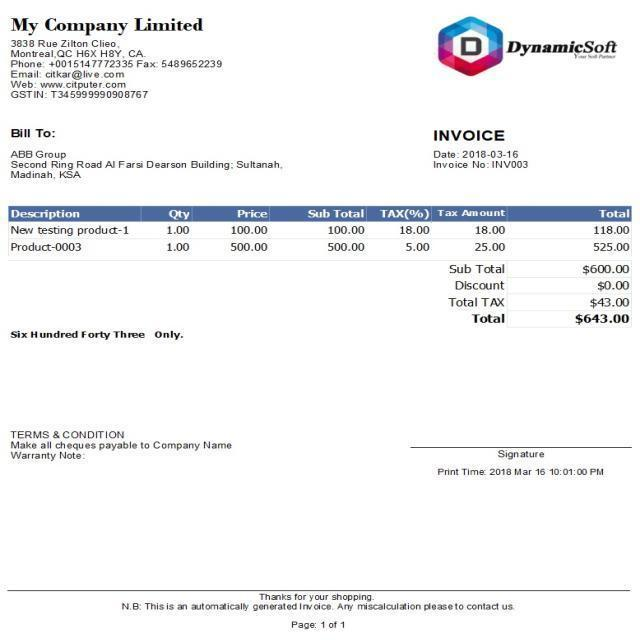paragraph: (5, 10, 233, 102), (112, 586, 517, 634), (4, 123, 286, 181), (442, 259, 633, 331), (432, 10, 621, 75), (4, 425, 238, 467), (421, 445, 617, 480), (425, 127, 535, 178), (8, 324, 188, 342)
table: (5, 202, 632, 256)
